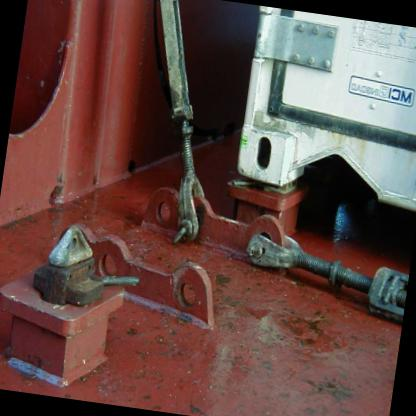CornerCasting: (224, 121, 300, 196)
Twistlock: (24, 216, 153, 318)
